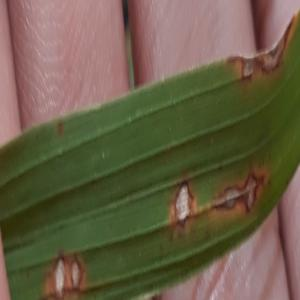Busuk Leher: (233, 49, 296, 80), (213, 177, 263, 212), (169, 179, 197, 231), (68, 254, 87, 292), (50, 254, 66, 298)
